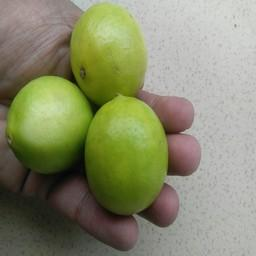Good_lime: (83, 96, 169, 216), (68, 1, 148, 100), (7, 76, 86, 170)
